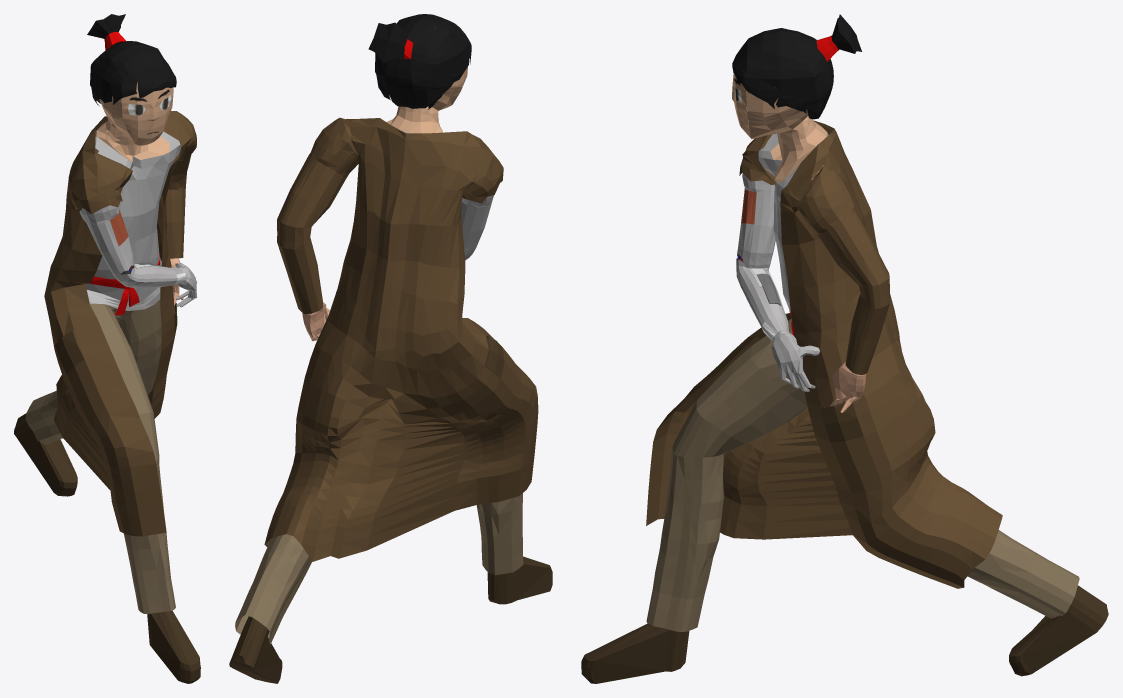
The model's file is One_RF_000023.obj.
3 renders of one model, left to right at view 1: azimuth 30°, elevation 25°; view 2: azimuth 150°, elevation 25°; view 3: azimuth 270°, elevation 25°, orthographic. The views are drawn at different scales.
Visible parts, largest first — view 1: Hair_Cube.004; view 2: Hair_Cube.004; view 3: Hair_Cube.004.
Boxes of the visible parts, x1,y1,x2,y2 form: Hair_Cube.004: (14, 14, 200, 683); Hair_Cube.004: (229, 14, 552, 683); Hair_Cube.004: (581, 14, 1108, 683).
Size of the model in its own units: 1.09 by 3.75 by 2.65.
